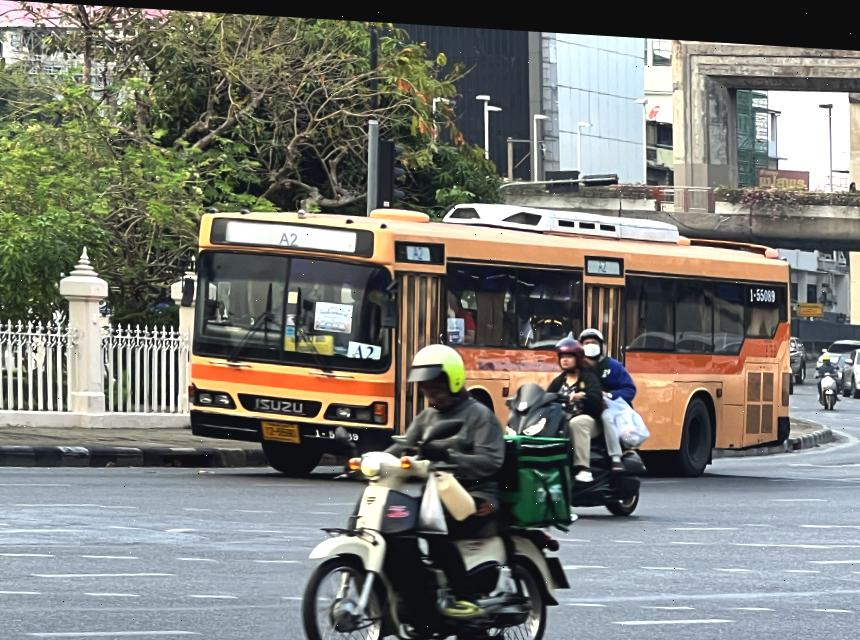BMTA-bus: (182, 200, 793, 472)
Bus Line Number: (272, 225, 310, 247)
Bus Side Number: (311, 423, 361, 439)
Destination Sign: (282, 330, 334, 351)
